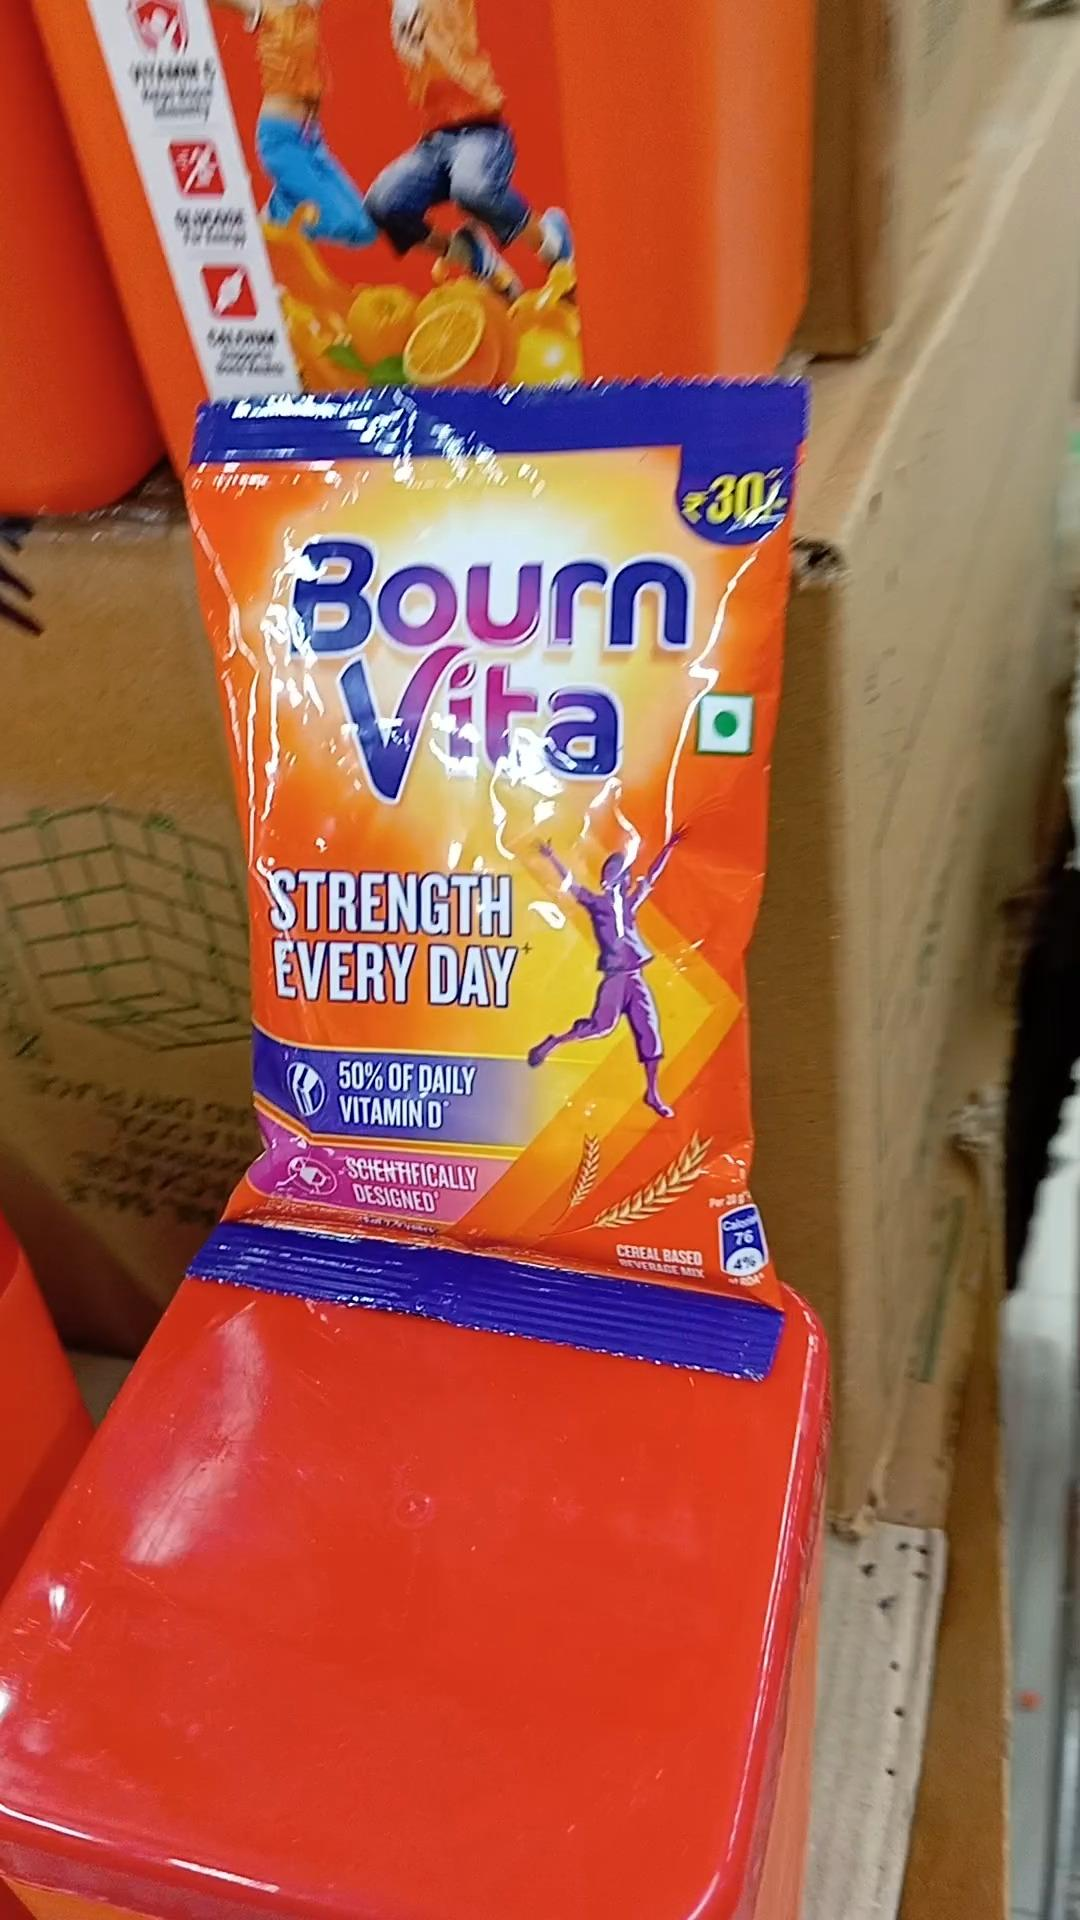BOURN_VITA_75_G_POUCH: (228, 386, 774, 1375)
